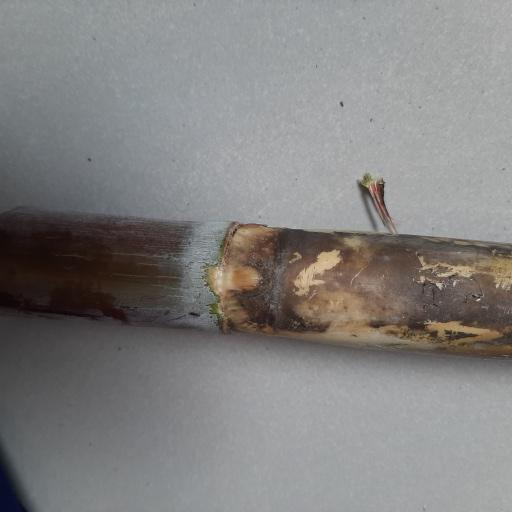Bud: (233, 263, 268, 294)
